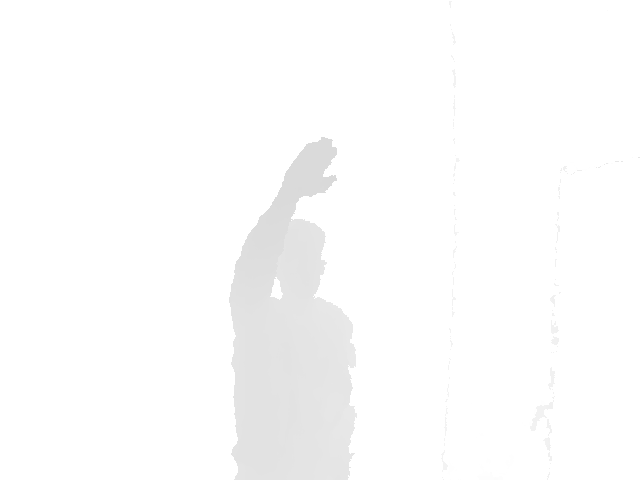hand: (279, 136, 339, 198)
head: (274, 219, 328, 296)
person: (228, 136, 359, 479)
